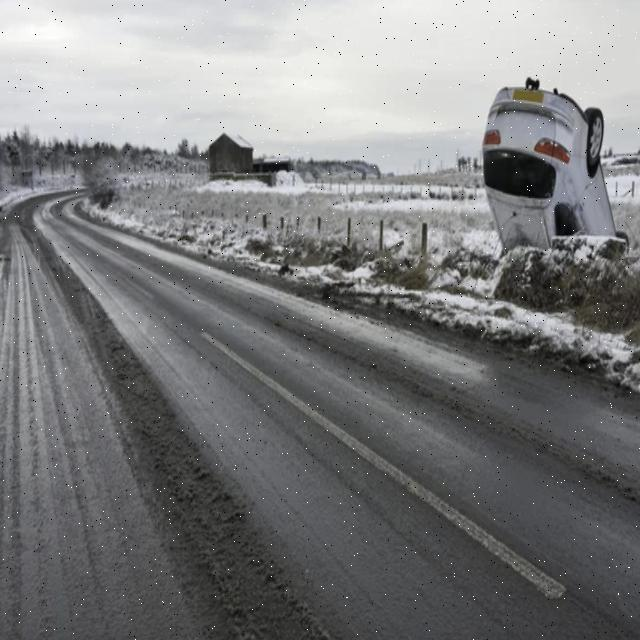severe: (477, 67, 624, 260)
